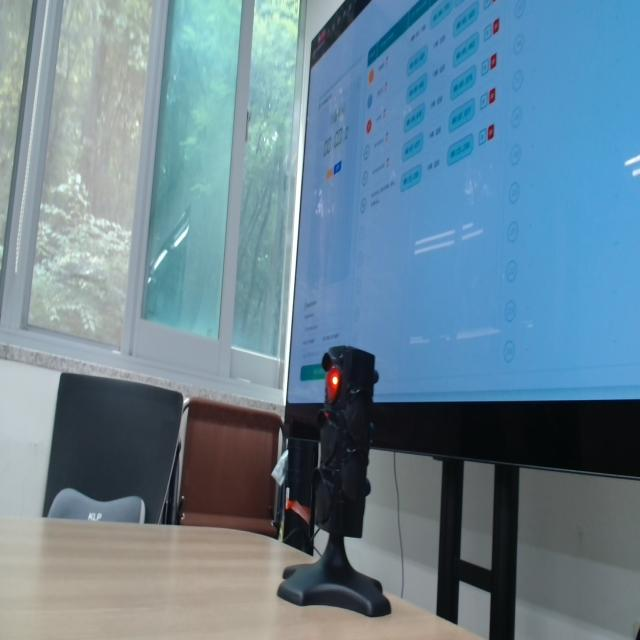red_light: (326, 367, 340, 403)
